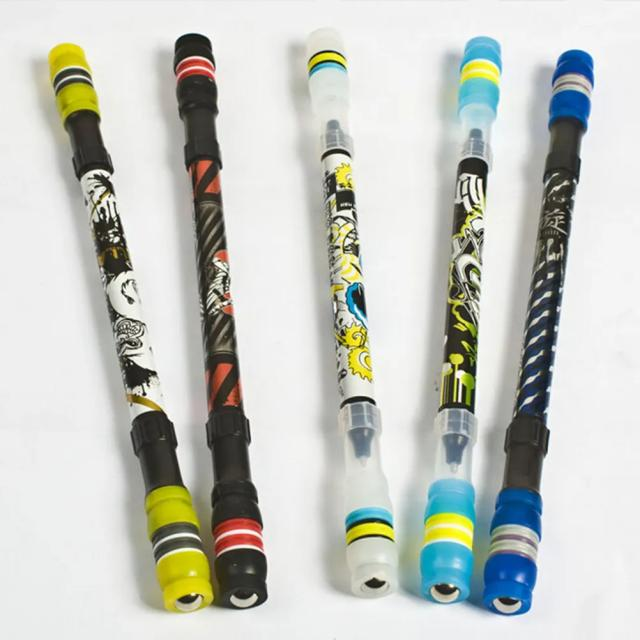pen: (56, 25, 596, 617)
